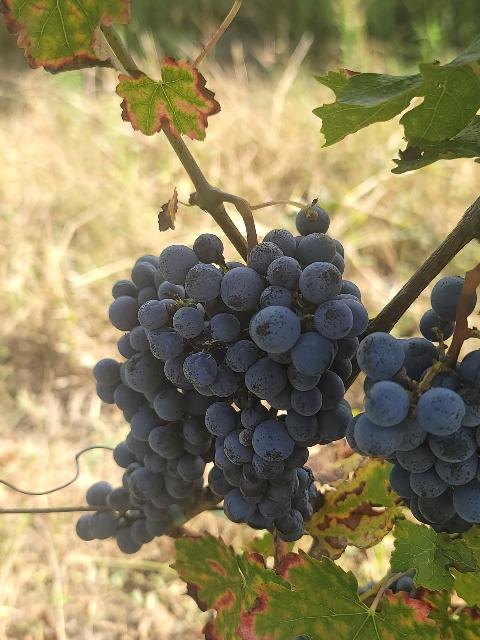grapes: (179, 215, 369, 541), (76, 234, 240, 552), (346, 276, 480, 532)
